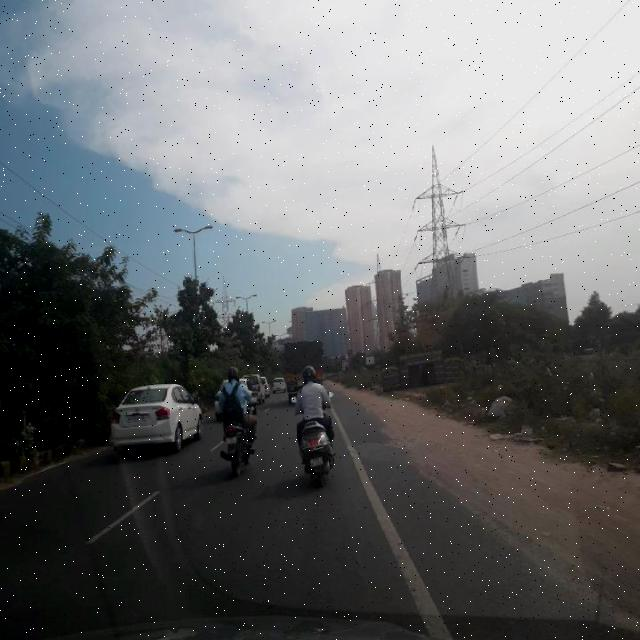D20: (185, 496, 392, 612)
